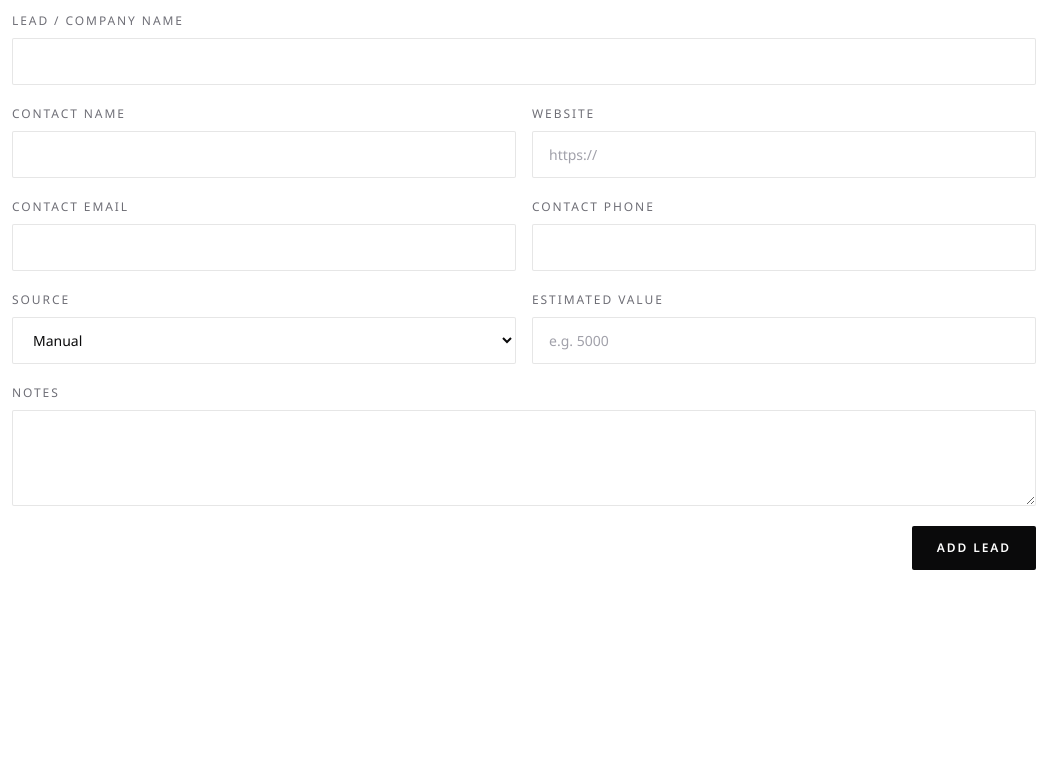
Test: LeadForm › validates the email and estimated value
The image size is (1048, 780).
Type "Acme" into the field labelled "Lead / company name" at (524, 62), box [12,38,1036,85]
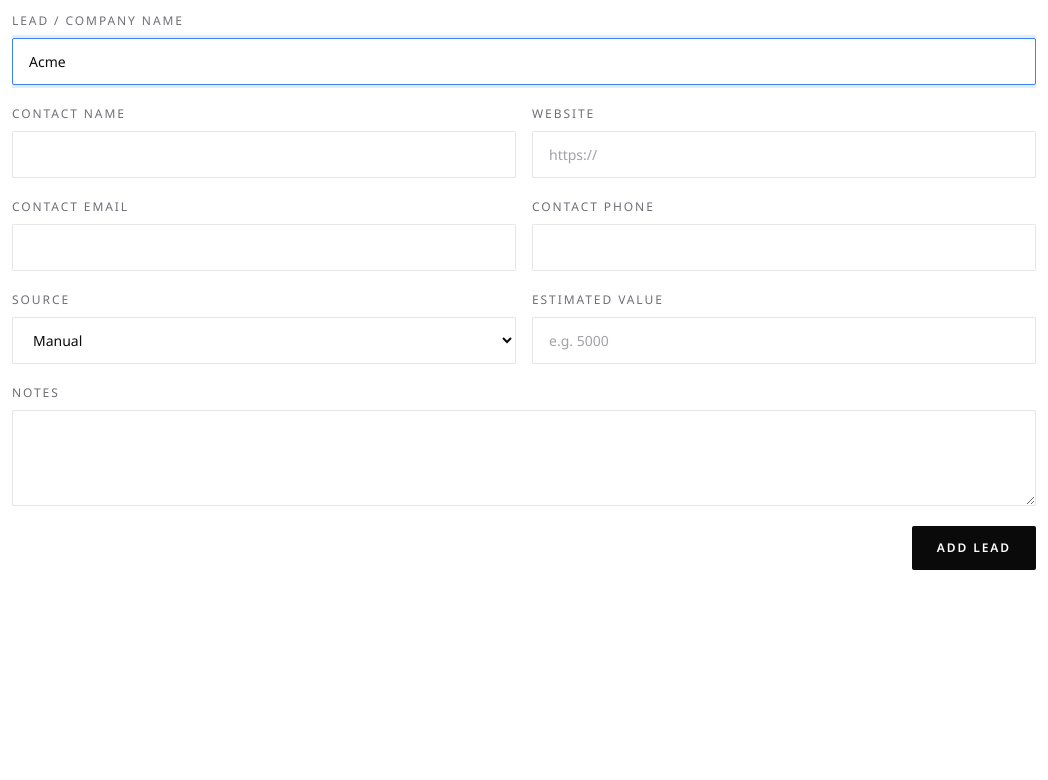
Type "not-an-email" into the field labelled "Contact email" at (264, 248), box [12,224,516,271]
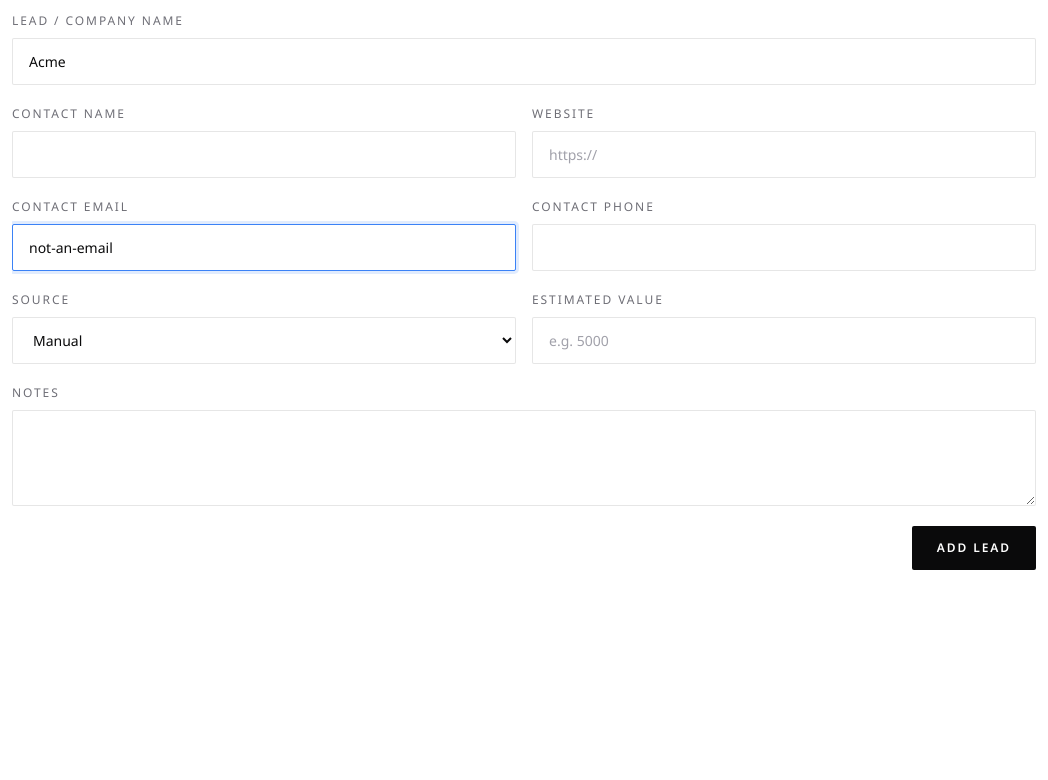
Type "abc" into the field labelled "Estimated value" at (784, 340), box [532,317,1036,364]
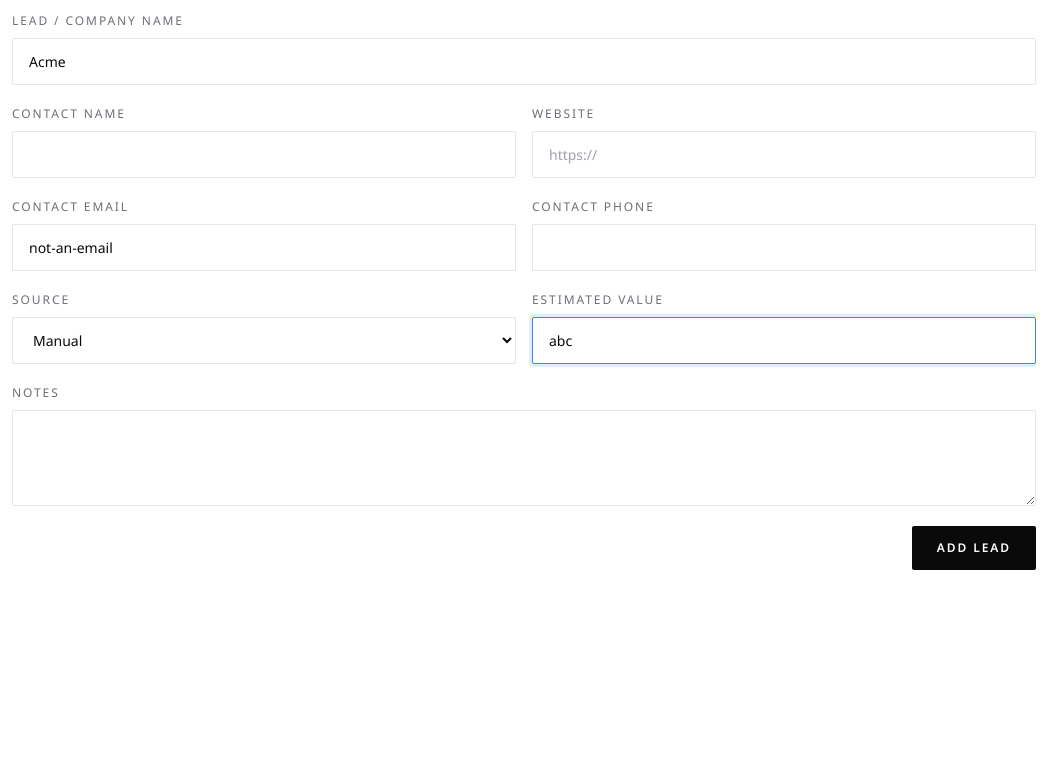
Click the button "Add lead" at (974, 548), box [912,526,1036,570]
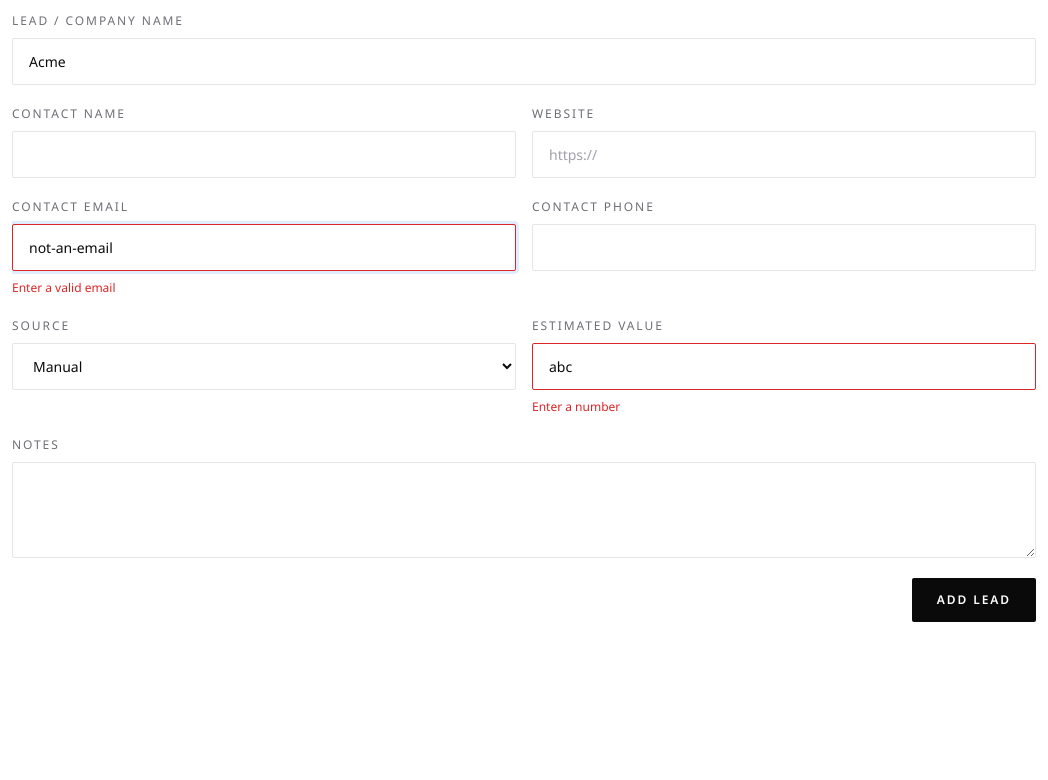
Check: the text "Enter a valid email" is shown, box [12,279,116,296]
Check: the text "Enter a number" is shown, box [532,398,620,415]
